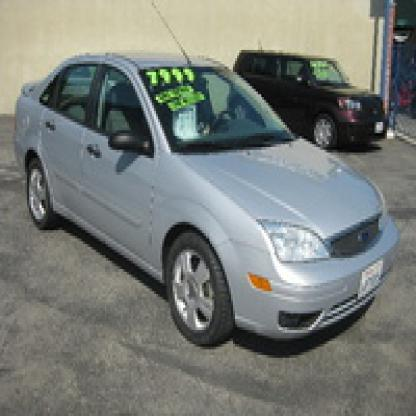Vehicle: (14, 50, 400, 352)
